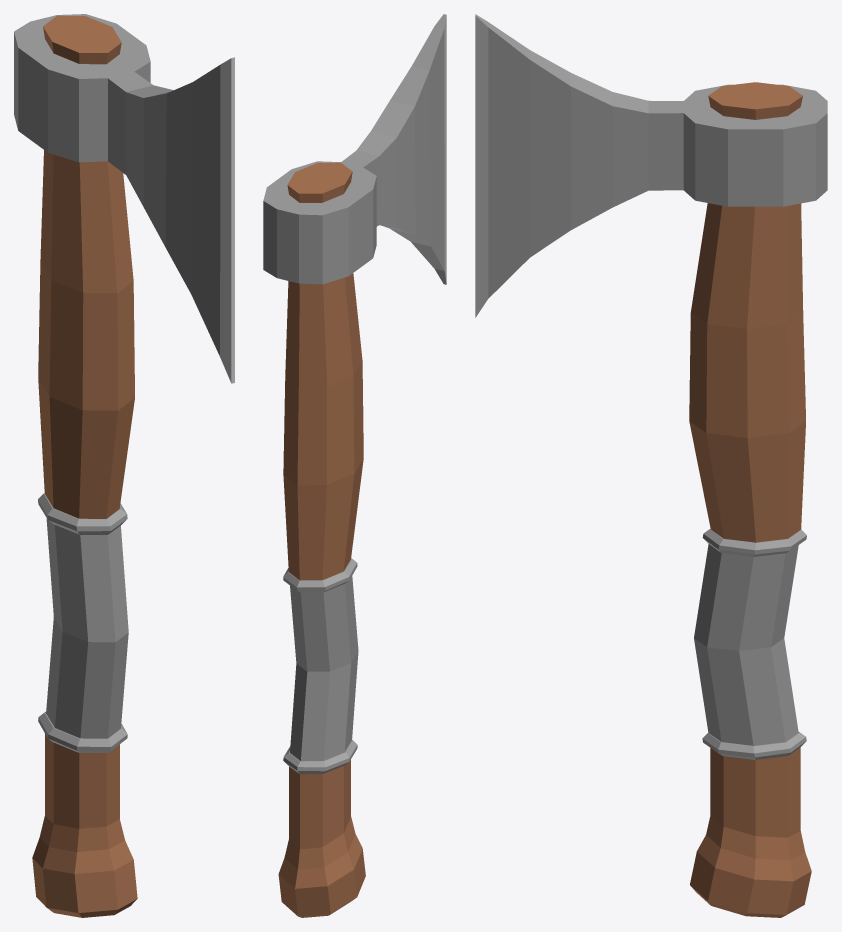
File: axe.fbx
The picture shows the model from 3 angles, left to right: view 1: azimuth 30°, elevation 25°; view 2: azimuth 150°, elevation 25°; view 3: azimuth 270°, elevation 25°; orthographic projection. The views are drawn at different scales.
Parts seen in each view (by area): view 1: Circle.001; view 2: Circle.001; view 3: Circle.001.
Boxes of the visible parts, box(x1,y1,x2,y2) form: Circle.001: box(14, 14, 234, 917); Circle.001: box(263, 14, 446, 917); Circle.001: box(475, 14, 827, 917).
Bounding box in the file's own units: 247 × 2312 × 825.
